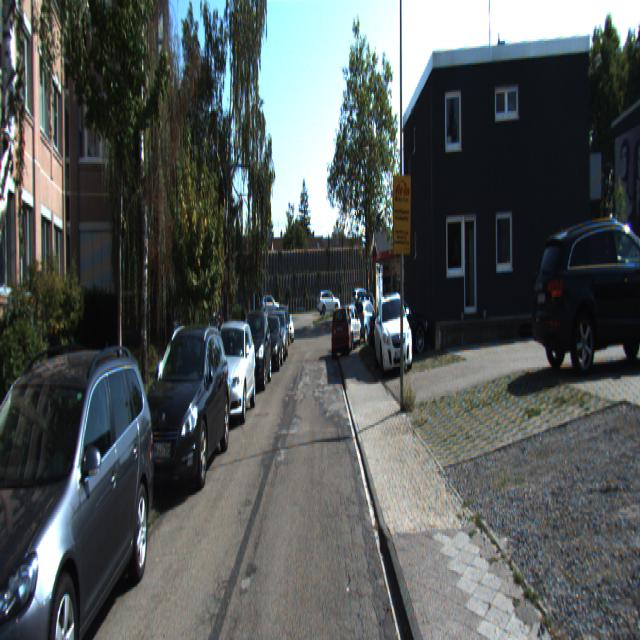Car: (0, 336, 159, 638), (528, 200, 640, 376), (133, 319, 231, 509), (203, 318, 257, 428), (369, 293, 430, 361), (374, 290, 414, 376), (237, 311, 273, 394), (612, 223, 640, 318), (261, 312, 284, 374), (330, 302, 352, 360), (351, 298, 377, 346), (316, 290, 339, 312), (260, 296, 280, 318)
